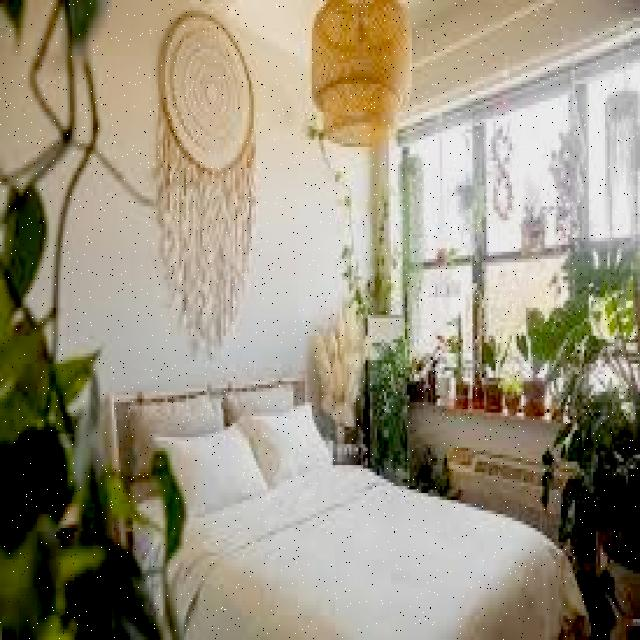bed: (116, 394, 539, 618)
